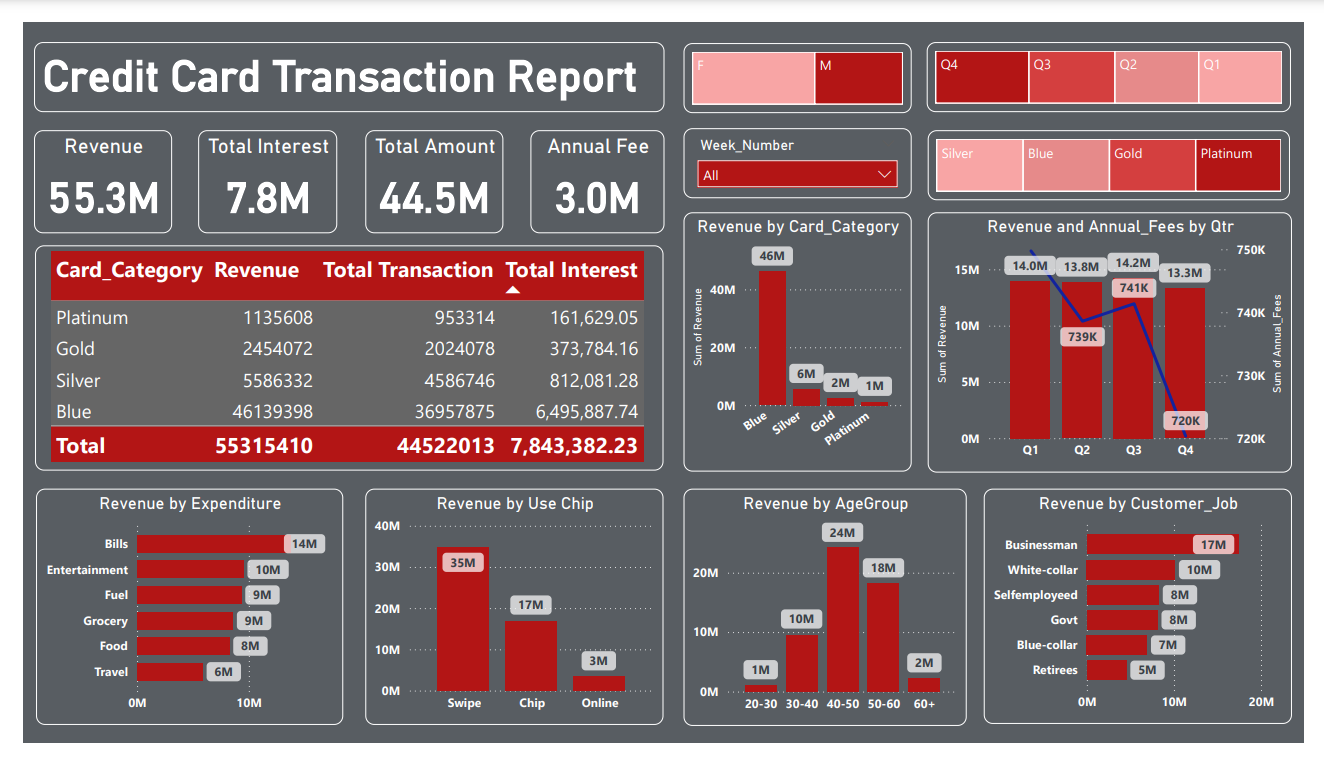

What the dashboard file says about the page in this screenshot:
{"tool":"powerbi","page":{"name":"Credit_Card_Detail","canvas":[1280,720],"ordinal":0},"visuals":[{"type":"lineStackedColumnComboChart","title":"Revenue and Annual_Fees by Qtr","fields":{"Category":["cc_detail.Qtr"],"Y":["Sum(cc_detail.Revenue)"],"Y2":["Sum(cc_detail.Annual_Fees)"]},"box":[903.8,190,363.8,260],"z":0},{"type":"textbox","box":[11.4,19.6,629.1,70.3],"z":1000},{"type":"barChart","title":"Revenue by Expenditure","fields":{"Category":["cc_detail.Exp Type"],"Y":["Sum(cc_detail.Revenue)"]},"box":[12.7,466.4,307.3,235.5],"z":2000},{"type":"lineStackedColumnComboChart","title":"Revenue by AgeGroup","fields":{"Category":["cust_detail.AgeGroup"],"Y":["Sum(cc_detail.Revenue)"]},"box":[660,466.4,282.7,236.4],"z":3000},{"type":"barChart","title":"Revenue by Customer_Job","fields":{"Category":["cust_detail.Customer_Job"],"Y":["Sum(cc_detail.Revenue)"]},"box":[960,466.4,308.2,234.5],"z":4000},{"type":"clusteredColumnChart","title":"Revenue by Card_Category","fields":{"Category":["cc_detail.Card_Category"],"Y":["Sum(cc_detail.Revenue)"]},"box":[660,190,227.5,258.8],"z":5000},{"type":"clusteredColumnChart","title":"Revenue by Use Chip","fields":{"Category":["cc_detail.Use Chip"],"Y":["Sum(cc_detail.Revenue)"]},"box":[341.8,466.4,298.2,235.5],"z":6000},{"type":"tableEx","fields":{"Values":["cc_detail.Card_Category","Sum(cc_detail.Revenue)","Sum(cc_detail.Total_Trans_Amt)","Sum(cc_detail.Interest_Earned)"]},"box":[11.7,223.3,628.3,225],"z":7000},{"type":"card","title":"Revenue","fields":{"Values":["Sum(cc_detail.Revenue)"]},"box":[11.4,107.8,137.3,102.9],"z":8000},{"type":"card","title":"Total Amount","fields":{"Values":["Sum(cc_detail.Total_Trans_Amt)"]},"box":[341.5,107.8,138.9,102.9],"z":9000},{"type":"card","title":"Annual Fee","fields":{"Values":["Sum(cc_detail.Annual_Fees)"]},"box":[506.6,107.8,134,102.9],"z":10000},{"type":"card","title":"Total Interest","fields":{"Values":["Sum(cc_detail.Interest_Earned)"]},"box":[175,107.9,138.6,102.9],"z":11000},{"type":"treemap","fields":{"Group":["cust_detail.Gender"],"Values":["CountNonNull(cc_detail.Client_Num)"]},"box":[660,21.1,227.8,70],"z":12000},{"type":"treemap","fields":{"Group":["cc_detail.Qtr"],"Values":["Avg(cc_detail.Client_Num)"]},"box":[903.3,20,363.3,70],"z":13000},{"type":"treemap","fields":{"Group":["cc_detail.Card_Category"],"Values":["Avg(cc_detail.Client_Num)"]},"box":[903.8,107.5,362.5,70],"z":14000},{"type":"slicer","title":"wee","fields":{"Values":["cc_detail.Week_Num2"]},"box":[660,106,228,70],"z":15000}]}

Visuals, with their boxes in screenshot pixels (x1, y1, x2, y2), scaled from the page's 1280x720 canvas onto the 1324x763 screenshot:
"Revenue and Annual_Fees by Qtr" lineStackedColumnComboChart: box=[935, 201, 1311, 477]
textbox: box=[12, 21, 663, 95]
"Revenue by Expenditure" barChart: box=[13, 494, 331, 744]
"Revenue by AgeGroup" lineStackedColumnComboChart: box=[683, 494, 975, 745]
"Revenue by Customer_Job" barChart: box=[993, 494, 1312, 743]
"Revenue by Card_Category" clusteredColumnChart: box=[683, 201, 918, 476]
"Revenue by Use Chip" clusteredColumnChart: box=[354, 494, 662, 744]
tableEx - cc_detail.Card_Category x Sum(cc_detail.Revenue): box=[12, 237, 662, 475]
"Revenue" card: box=[12, 114, 154, 223]
"Total Amount" card: box=[353, 114, 497, 223]
"Annual Fee" card: box=[524, 114, 663, 223]
"Total Interest" card: box=[181, 114, 324, 223]
treemap - cust_detail.Gender x CountNonNull(cc_detail.Client_Num): box=[683, 22, 918, 97]
treemap - cc_detail.Qtr x Avg(cc_detail.Client_Num): box=[934, 21, 1310, 95]
treemap - cc_detail.Card_Category x Avg(cc_detail.Client_Num): box=[935, 114, 1310, 188]
"wee" slicer: box=[683, 112, 919, 187]
